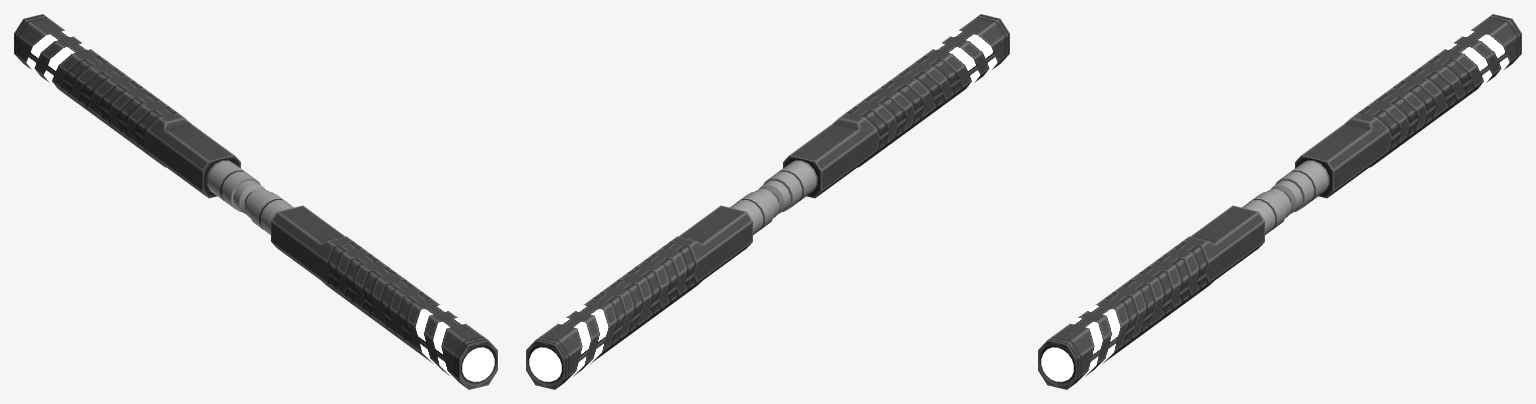
Rendered from MeleeEnergyStaff01_2.FBX.
3 views of the same model, side by side, from view 1: azimuth 30°, elevation 25°; view 2: azimuth 150°, elevation 25°; view 3: azimuth 330°, elevation 25° (orthographic).
Visible parts, largest first — view 1: MeleeEnergyStaff01_2; view 2: MeleeEnergyStaff01_2; view 3: MeleeEnergyStaff01_2.
Boxes of the visible parts, box(x1,y1,x2,y2) form: MeleeEnergyStaff01_2: box(14, 14, 497, 389); MeleeEnergyStaff01_2: box(526, 14, 1009, 389); MeleeEnergyStaff01_2: box(1038, 14, 1521, 389).
Size of what is drawn, in the model's own units: 0.0344 by 0.0388 by 0.7097.
